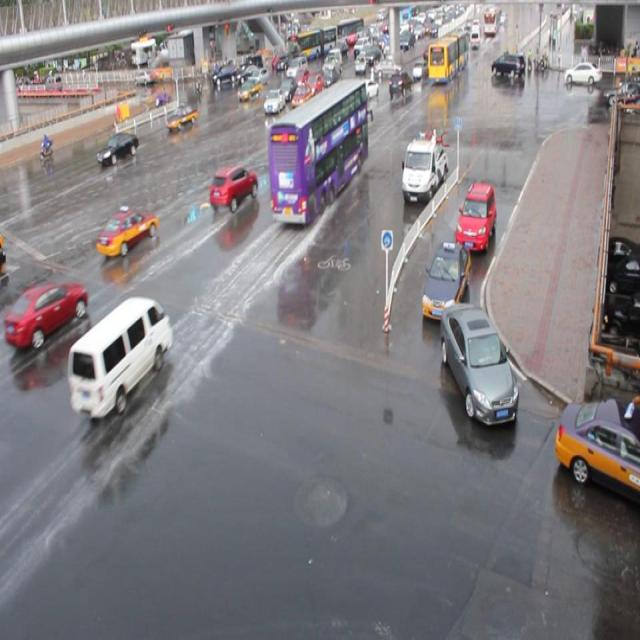bus: (400, 131, 446, 202)
car: (439, 301, 518, 426), (552, 397, 640, 503), (9, 278, 88, 349), (420, 239, 470, 320), (96, 204, 158, 256), (454, 180, 495, 253), (209, 163, 258, 212), (97, 130, 139, 165), (165, 102, 198, 129), (272, 109, 297, 141), (388, 69, 412, 97), (263, 89, 285, 114), (292, 82, 312, 109), (237, 78, 261, 99), (358, 78, 378, 100), (278, 77, 297, 100), (306, 74, 324, 97), (293, 68, 310, 90)
truck: (66, 294, 172, 416)
van: (265, 78, 368, 223)
